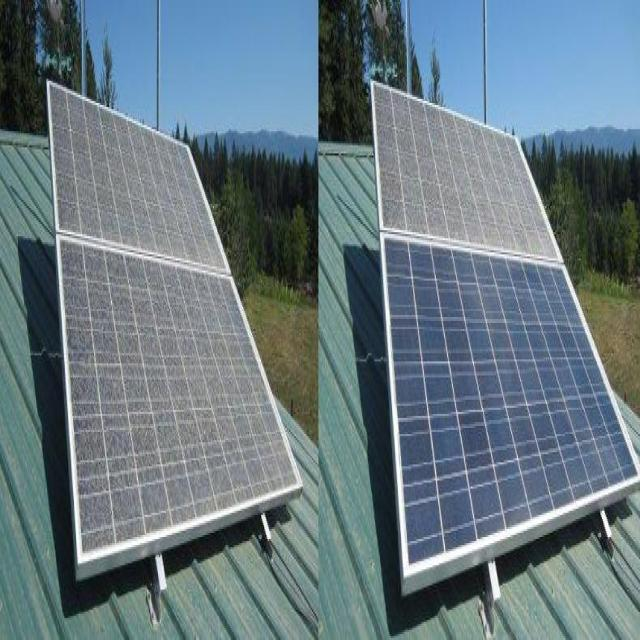Anomaly Solar Panel: (57, 235, 303, 564), (48, 81, 231, 272), (371, 80, 563, 262)
Normal Solar Panel: (382, 234, 640, 573)
Surface Contaminant: (51, 85, 299, 553), (374, 85, 560, 258)
